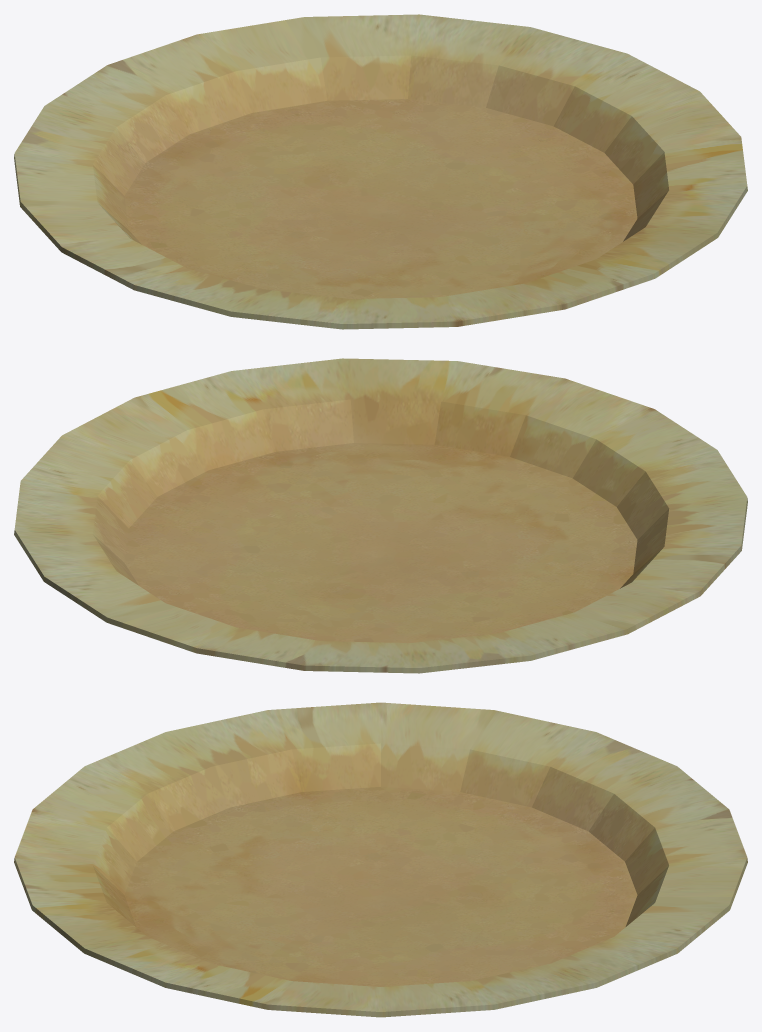
The model's file is ENV_Plate_01.fbx.
The picture shows the model from 3 angles, top to bottom: view 1: azimuth 30°, elevation 25°; view 2: azimuth 150°, elevation 25°; view 3: azimuth 270°, elevation 25°; orthographic projection.
Visible parts, largest first — view 1: ENV_Plate_01; view 2: ENV_Plate_01; view 3: ENV_Plate_01.
Boxes of the visible parts, x1,y1,x2,y2 form: ENV_Plate_01: (14, 14, 747, 329); ENV_Plate_01: (14, 358, 747, 673); ENV_Plate_01: (14, 702, 747, 1017).
Size of the model in its own units: 39.02 by 2.89 by 39.02.
Materials: 1 (1 with a texture image).
